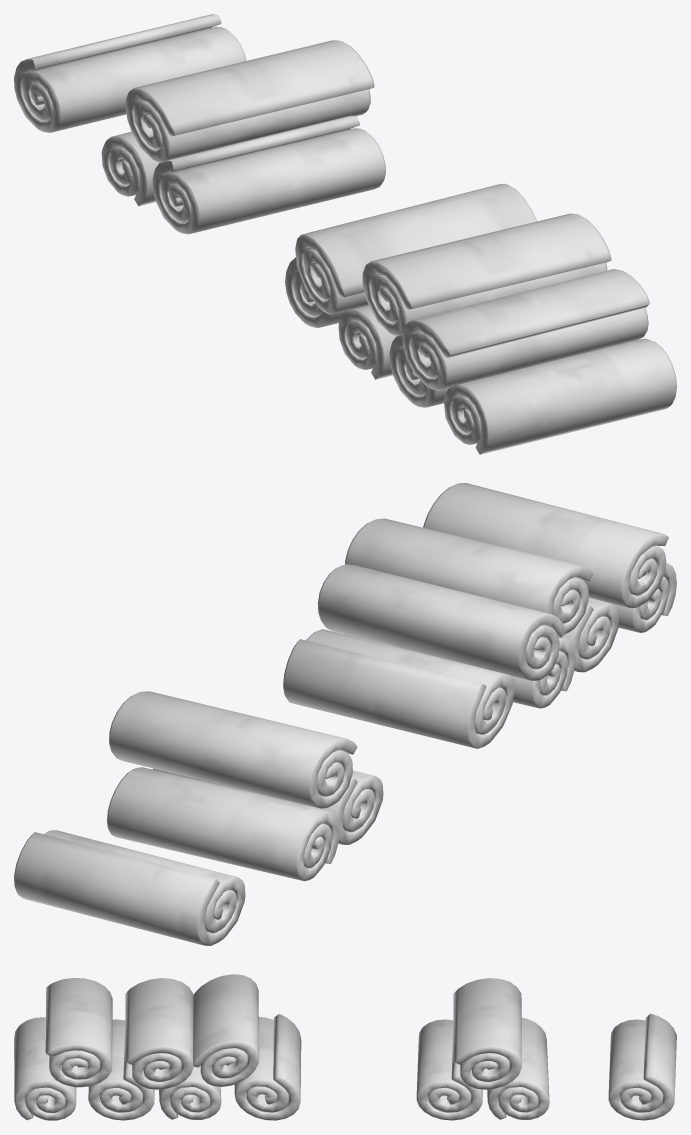
Rendered from ropa_towel.glb.
3 renders of one model, top to bottom at view 1: azimuth 30°, elevation 25°; view 2: azimuth 150°, elevation 25°; view 3: azimuth 270°, elevation 25°, orthographic. The views are drawn at different scales.
Parts seen in each view (by area): view 1: Helix006__0; view 2: Helix006__0; view 3: Helix006__0.
Boxes of the visible parts, x1,y1,x2,y2 form: Helix006__0: (14, 14, 676, 454); Helix006__0: (14, 483, 676, 945); Helix006__0: (14, 974, 676, 1120).
Size of the model in its own units: 0.1615 by 0.0812 by 0.6.
1 material, 1 textured.
